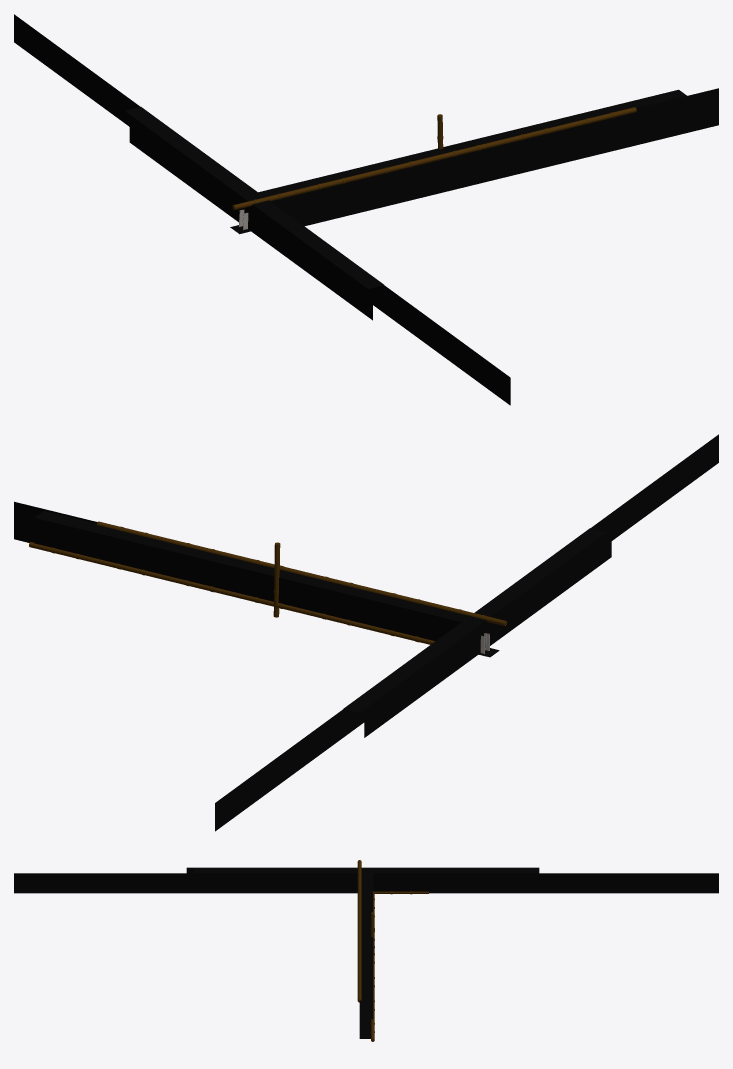
Rendered from menu.glb.
The picture shows the model from 3 angles, top to bottom: view 1: azimuth 30°, elevation 25°; view 2: azimuth 150°, elevation 25°; view 3: azimuth 270°, elevation 25°; orthographic projection. The views are drawn at different scales.
Visible parts, largest first — view 1: Plane, Cube; view 2: Plane, Cube; view 3: Plane.
Part boxes in pixels (x1,y1,x2,y2): Plane: [14, 14, 686, 405]; Cube: [271, 88, 718, 226]; Plane: [34, 434, 718, 831]; Cube: [14, 501, 97, 542]; Plane: [14, 867, 718, 1038].
Size of the model in its own units: 58.34 by 8.28 by 103.
